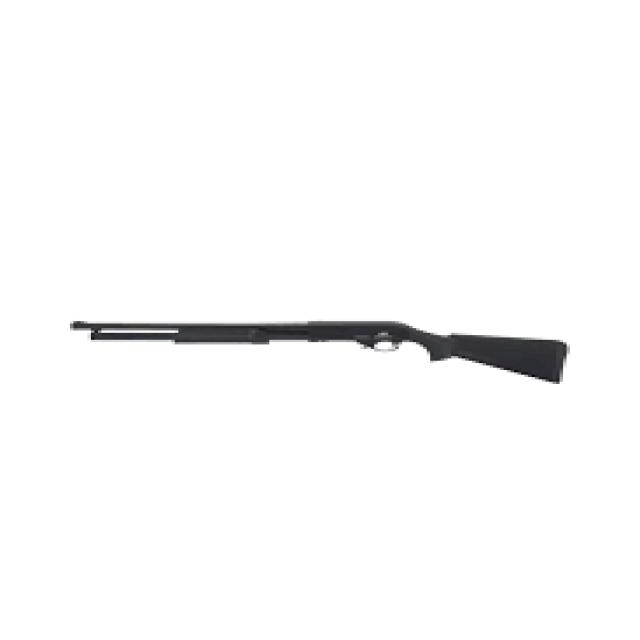rifle: (65, 314, 579, 396)
